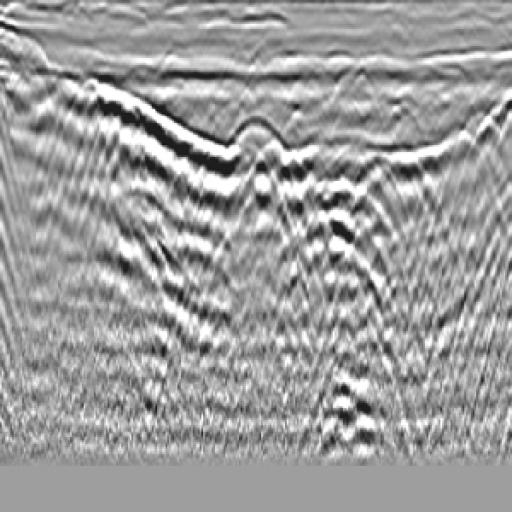metalic: (194, 108, 311, 284)
